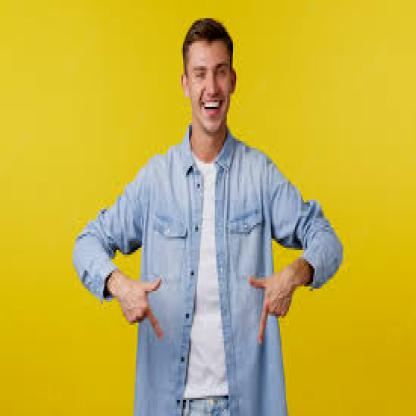Down: (242, 262, 298, 348), (124, 271, 167, 348)
